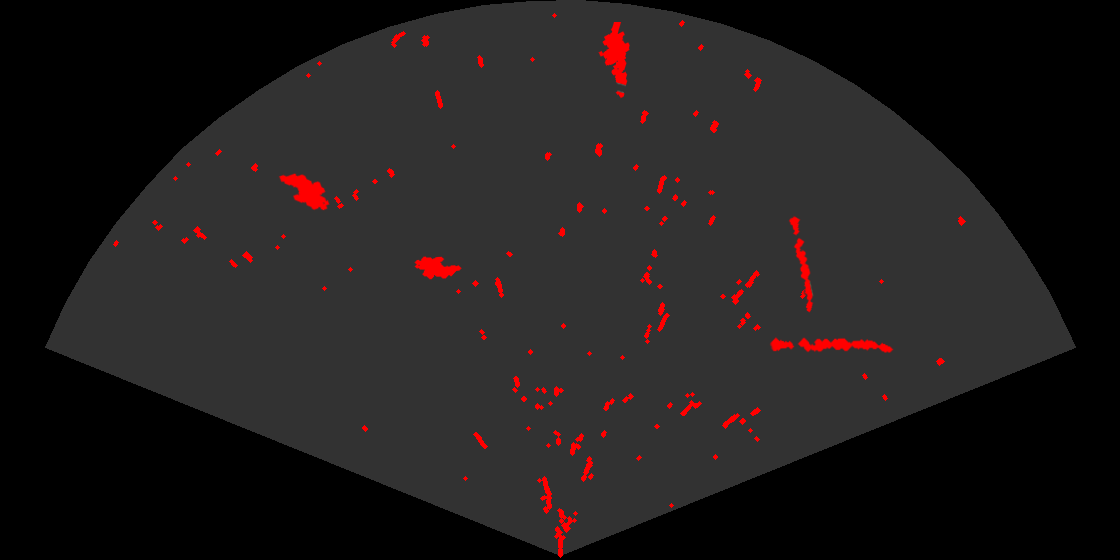AUV: (277, 172, 331, 212), (413, 255, 463, 281)
chain: (787, 214, 815, 314), (769, 336, 894, 354)
frogman: (597, 22, 631, 100)
